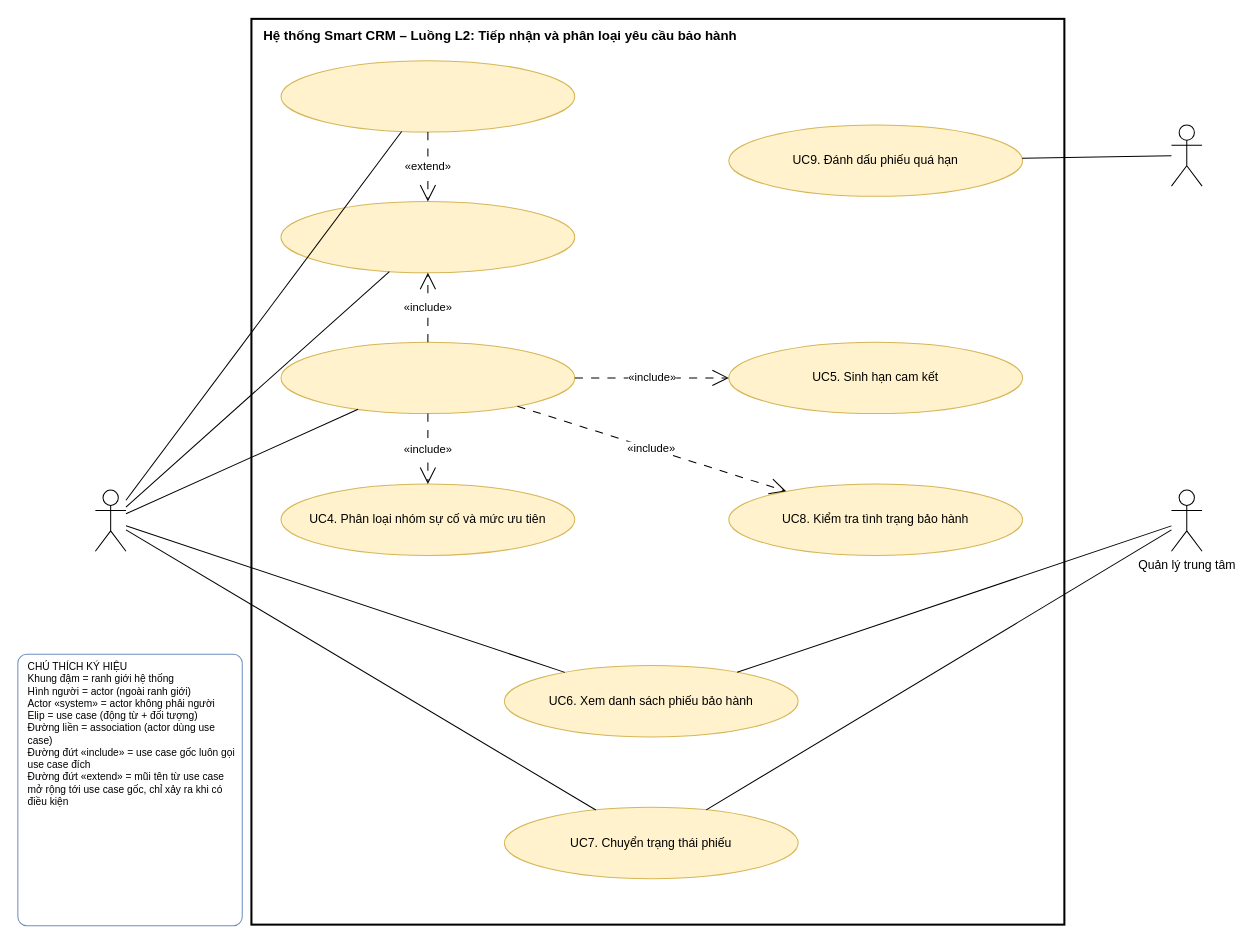
The diagram is 1253 pixels wide and 944 high, and some of its shapes have lost their labels. Each missing label, with the box of its shape:
Bộ lập lịch «system»: (1170, 124, 1202, 186)
Nhân viên tiếp nhận: (94, 489, 126, 551)
UC1. Tra cứu khách hàng theo số điện thoại: (280, 200, 575, 273)
UC2. Ghi nhận khách hàng và thiết bị mới: (280, 60, 575, 132)
UC3. Tạo phiếu bảo hành: (280, 341, 575, 414)
